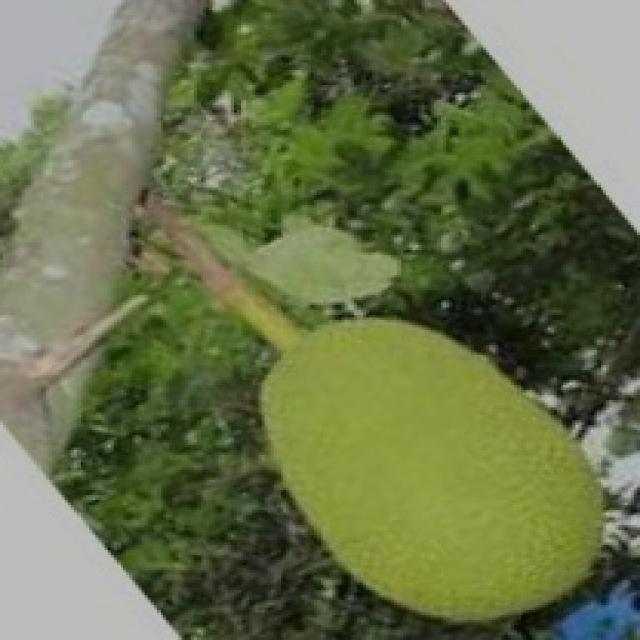Fruit: (225, 270, 637, 640), (246, 2, 640, 342)
